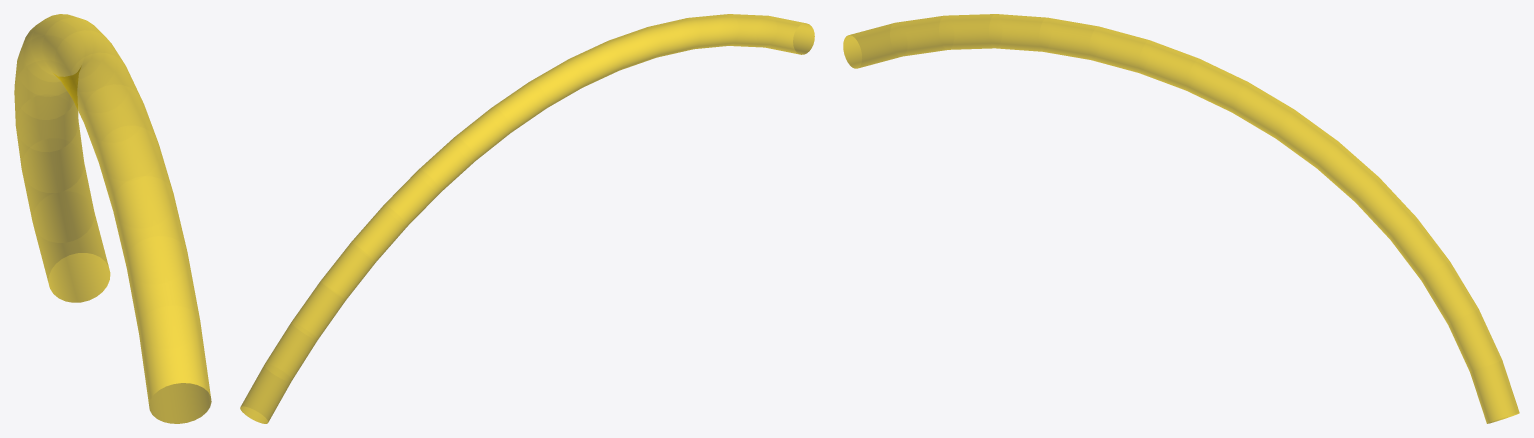
File: Event_419990632_track_72.fbx
The picture shows the model from 3 angles, left to right: view 1: azimuth 30°, elevation 25°; view 2: azimuth 150°, elevation 25°; view 3: azimuth 270°, elevation 25°; orthographic projection. The views are drawn at different scales.
Parts seen in each view (by area): view 1: Model; view 2: Model; view 3: Model.
Part boxes in pixels (x1,y1,x2,y2): Model: (14, 14, 211, 423); Model: (240, 14, 814, 423); Model: (843, 14, 1519, 423).
Size of the model in its own units: 0.397 by 0.3931 by 0.7814.
